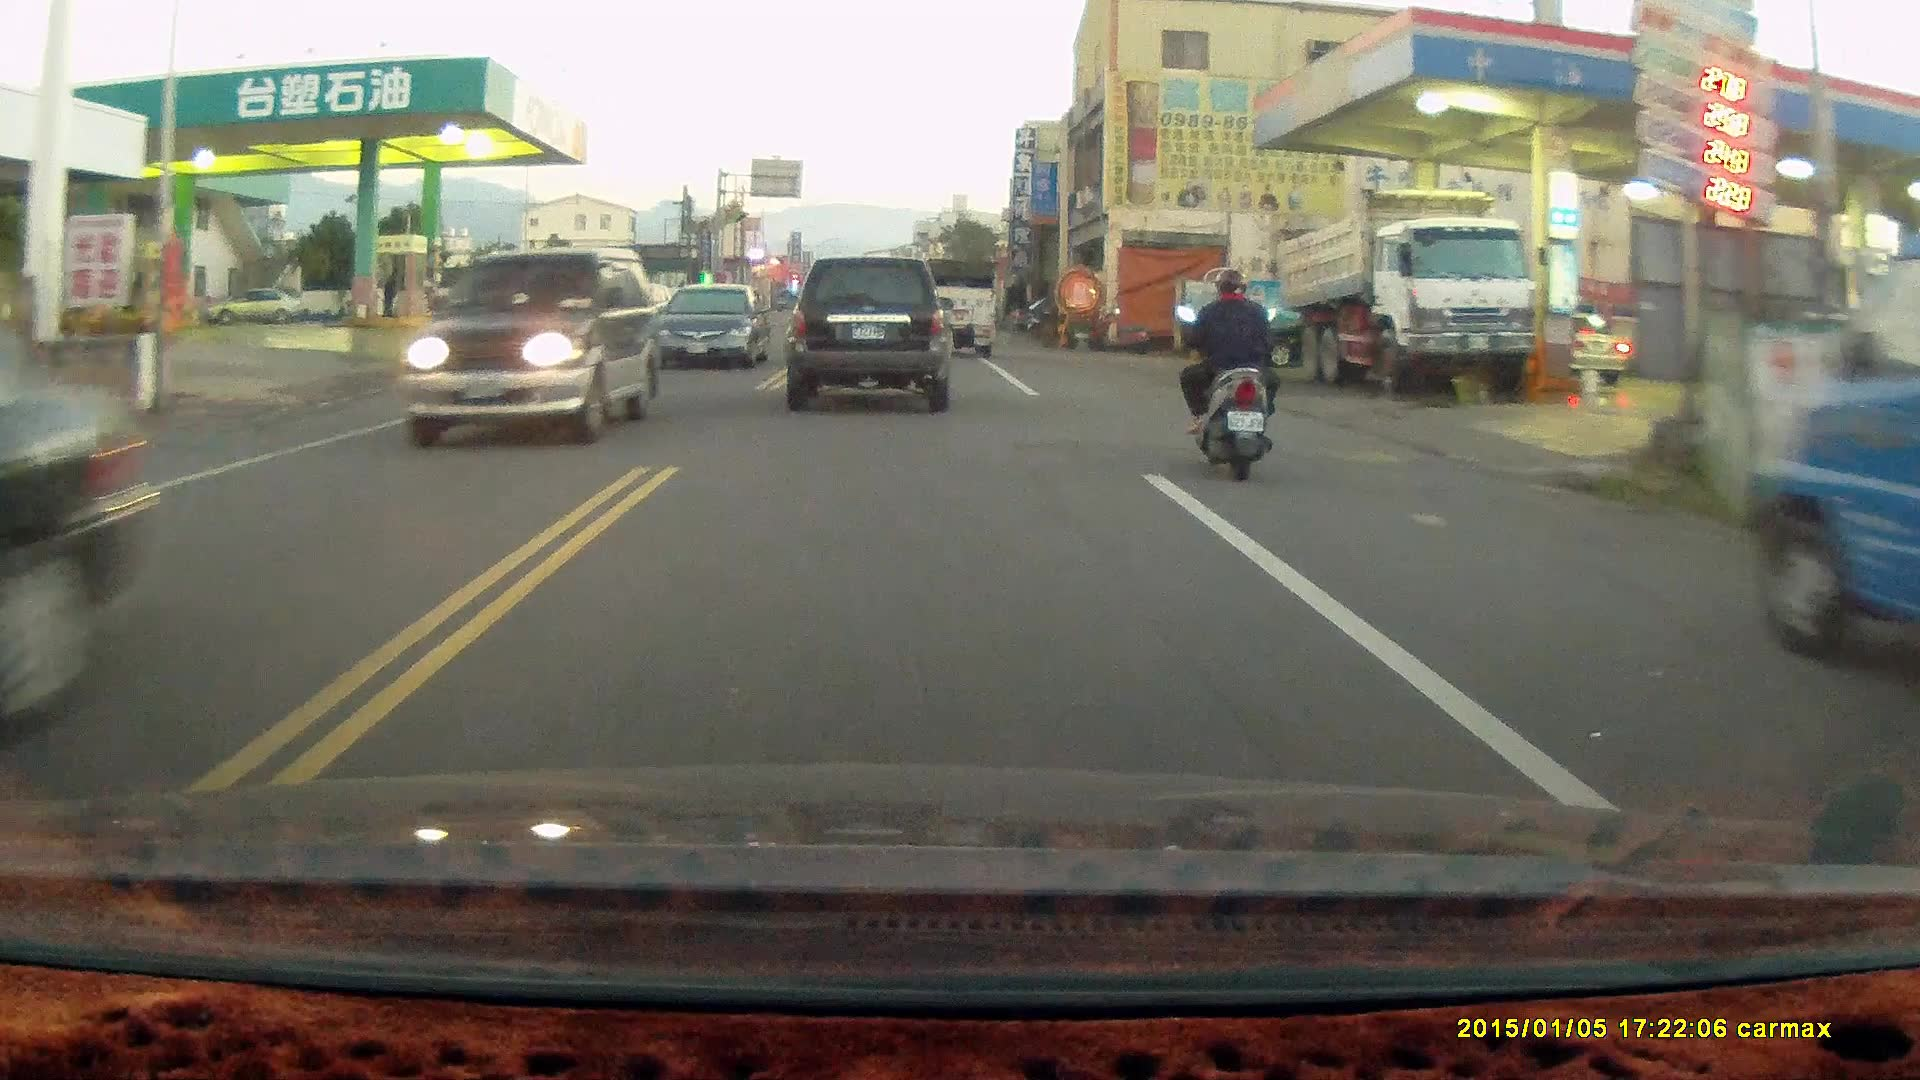rider: (1175, 265, 1282, 482)
vehicle: (1744, 243, 1920, 686), (1, 277, 167, 738), (1272, 187, 1539, 401), (399, 243, 659, 447), (791, 257, 954, 413), (657, 284, 775, 371), (905, 254, 997, 353)
